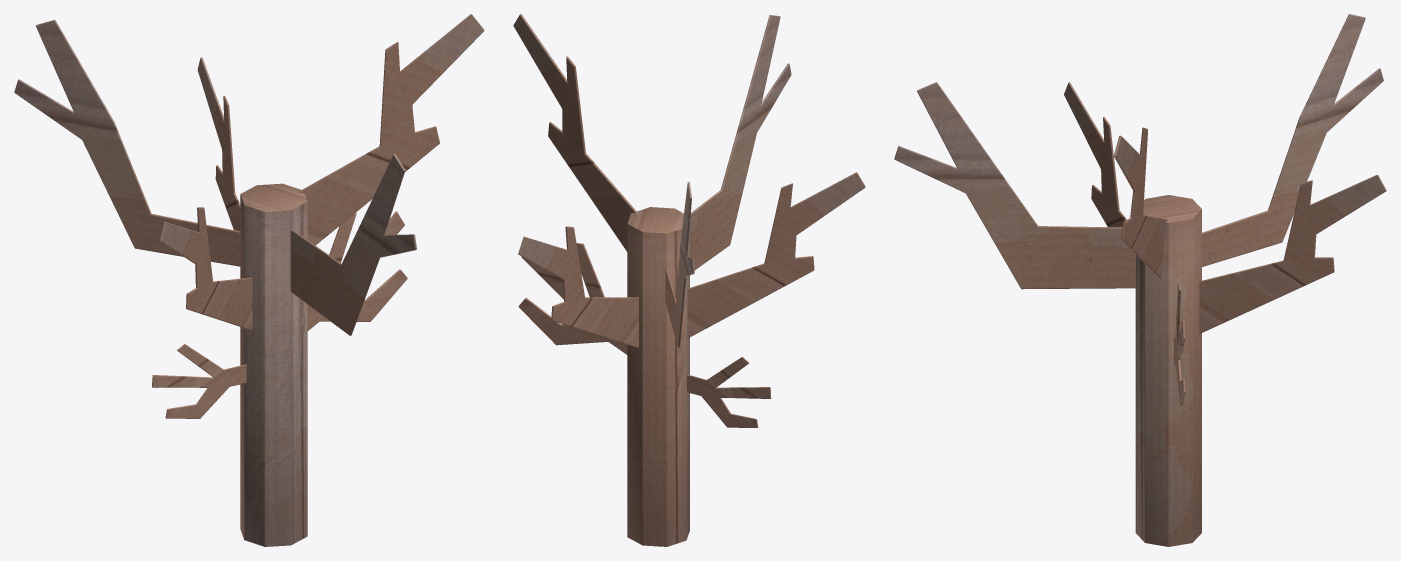
File: FOREST_PILLAR_THIN_001.obj
3 views of the same model, side by side, from view 1: azimuth 30°, elevation 25°; view 2: azimuth 150°, elevation 25°; view 3: azimuth 270°, elevation 25° (orthographic). The views are drawn at different scales.
Parts seen in each view (by area): view 1: TOMB_PILLAR_THIN_001; view 2: TOMB_PILLAR_THIN_001; view 3: TOMB_PILLAR_THIN_001.
Boxes of the visible parts, <box> form: TOMB_PILLAR_THIN_001: <box>14,14,484,546</box>; TOMB_PILLAR_THIN_001: <box>513,14,865,546</box>; TOMB_PILLAR_THIN_001: <box>894,14,1386,546</box>.
Size of the model in its own units: 3.28 by 4.43 by 4.12.
